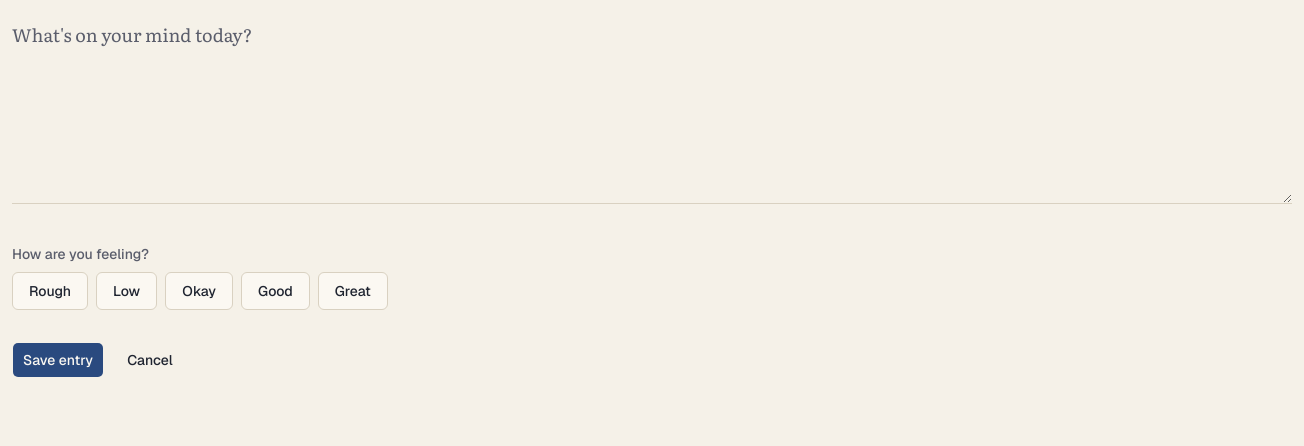
EntryEditor › keeps the text and shows the error when saving fails
This screenshot has width=1304, height=446.
Type "Keep me" into the text box named "Entry text".
click(652, 108); type("Keep me")  # box [12,12,1292,204]
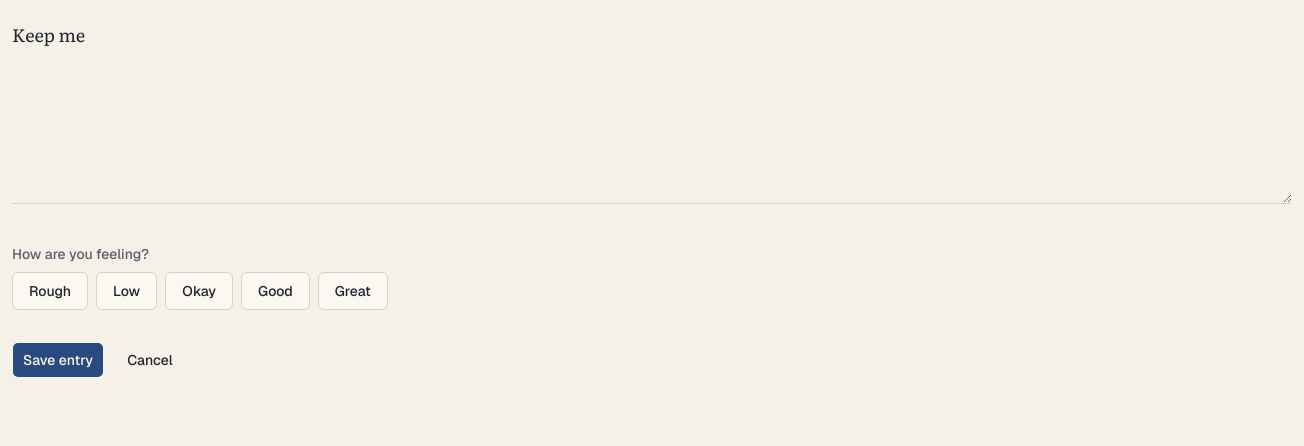
Click the radio button labelled "Low".
click(127, 291)  # box [96,272,157,310]
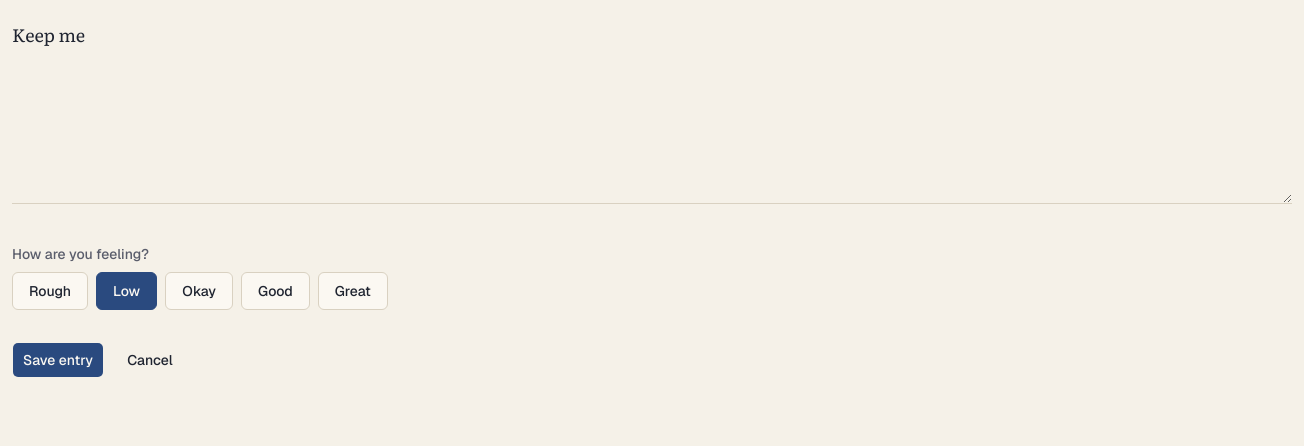
Click the button "Save entry".
click(58, 360)  # box [12,342,104,378]
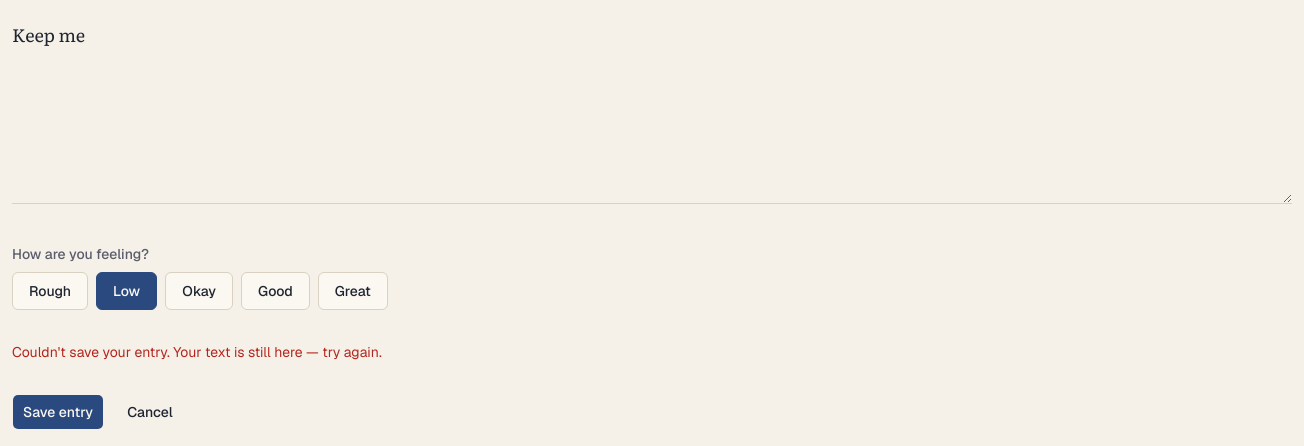
Now the message shows "Your text is still here", box [12,343,382,361]
